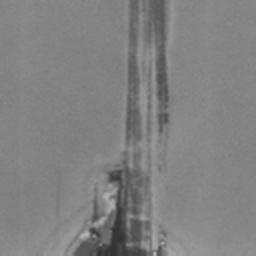Slag inclusion: (70, 0, 172, 256)
